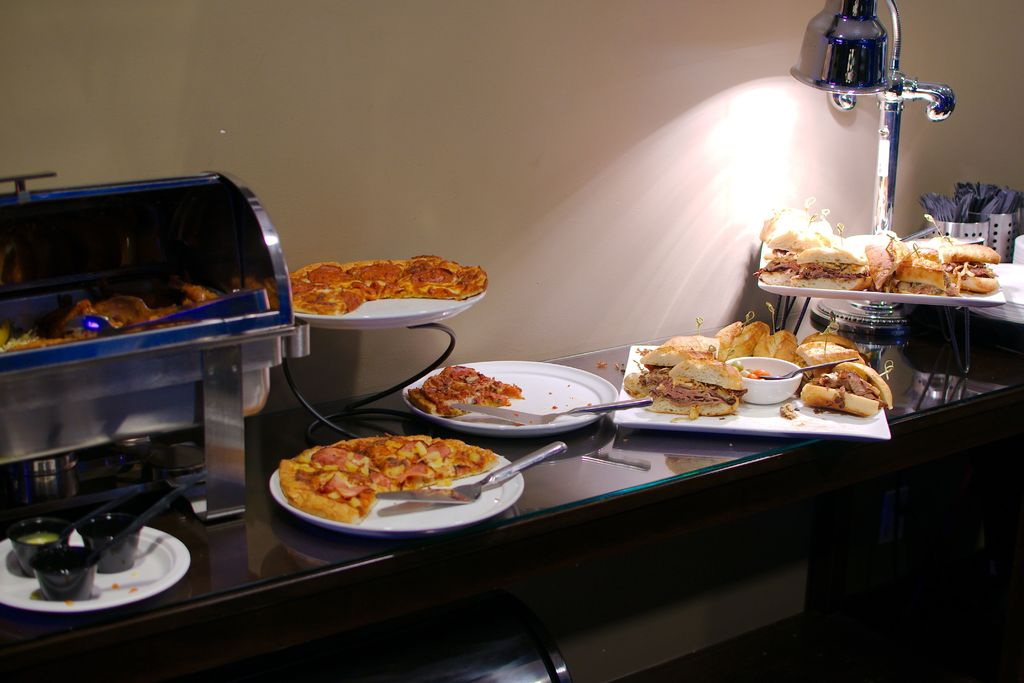Pizza: (277, 433, 495, 533), (290, 256, 497, 314), (400, 353, 515, 426)
